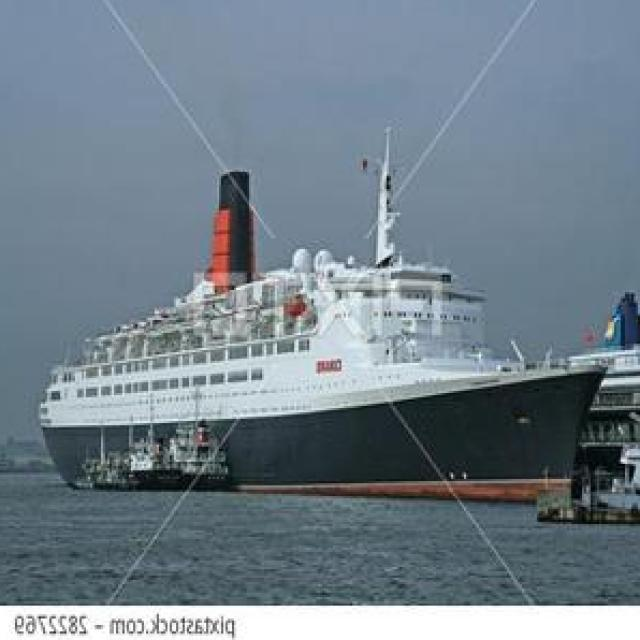houseboat: (70, 413, 228, 492)
passenger ship: (42, 163, 604, 492)
